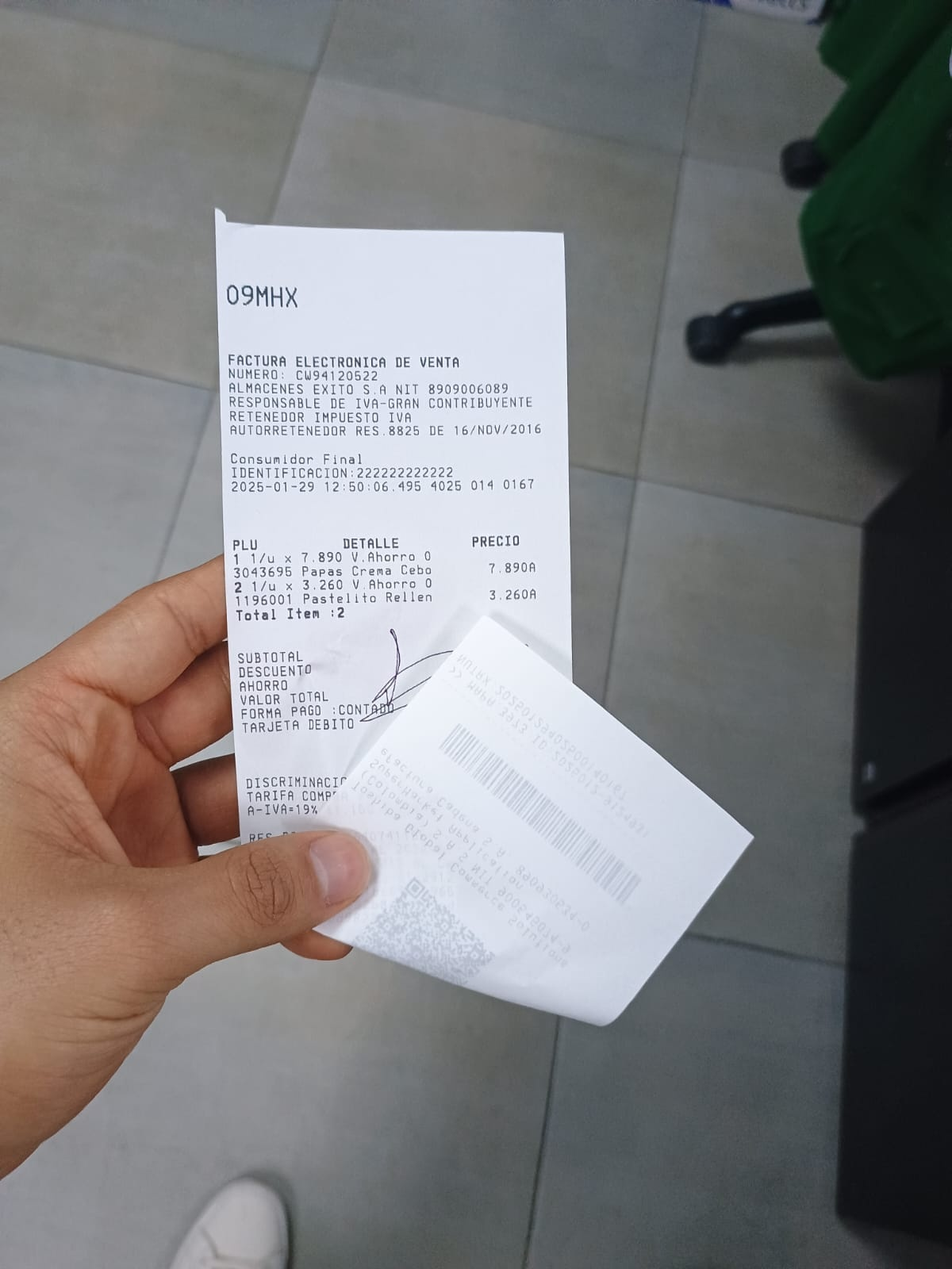Papel: (211, 212, 767, 1027)
